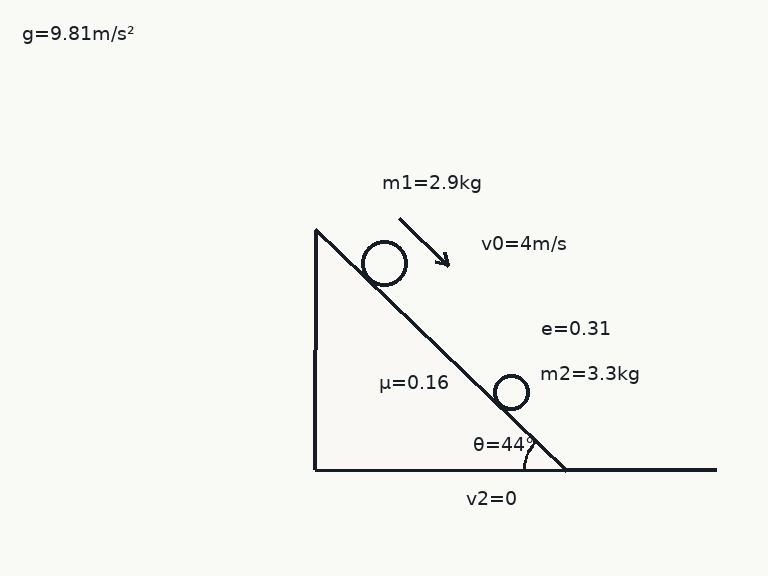ball: (359, 238, 409, 288), (491, 372, 531, 412)
ramp: (313, 227, 566, 471)
